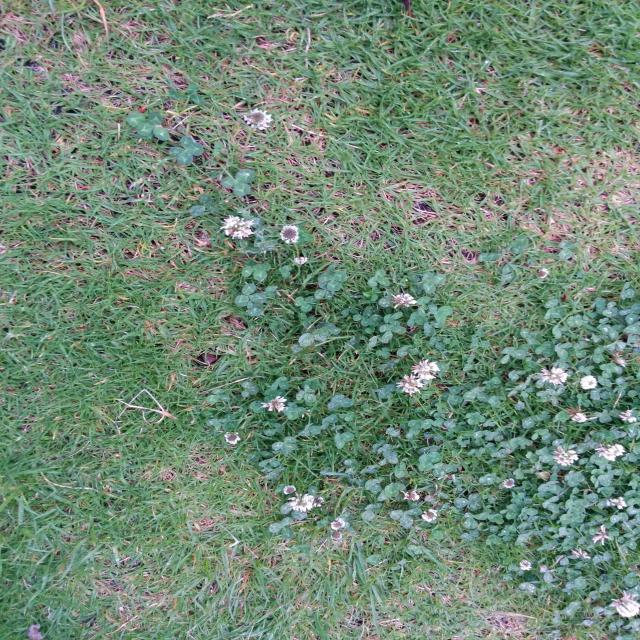Four Leaf Clover: (168, 136, 204, 165)
